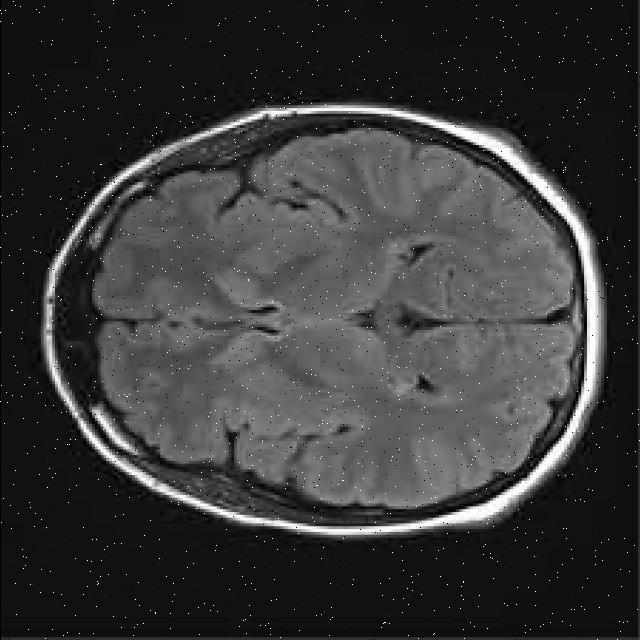No_Tumor: (41, 105, 603, 537)
